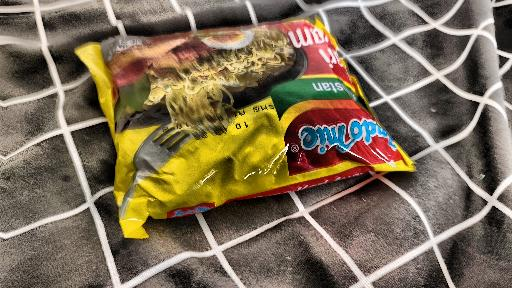indomie: (66, 30, 421, 218)
